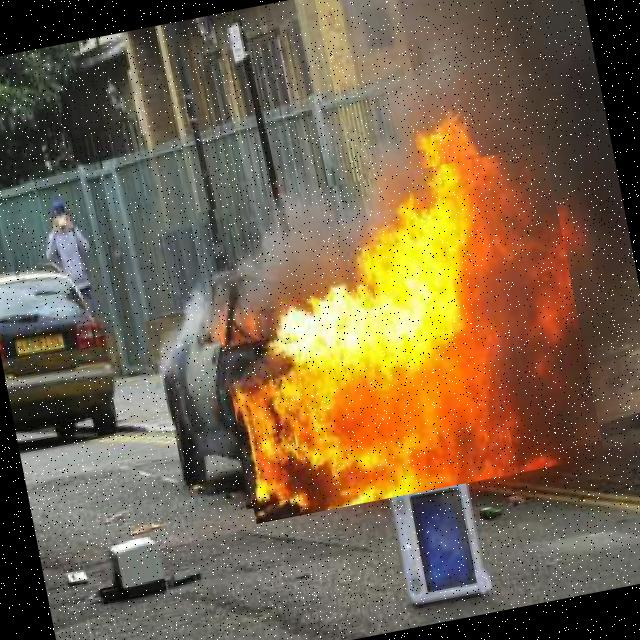fire: (196, 145, 605, 524)
